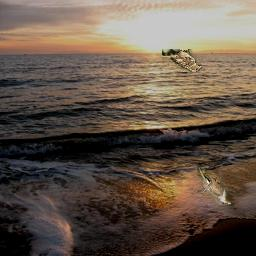Cuckoo: (197, 165, 231, 205)
Sparrow: (162, 49, 202, 72)
